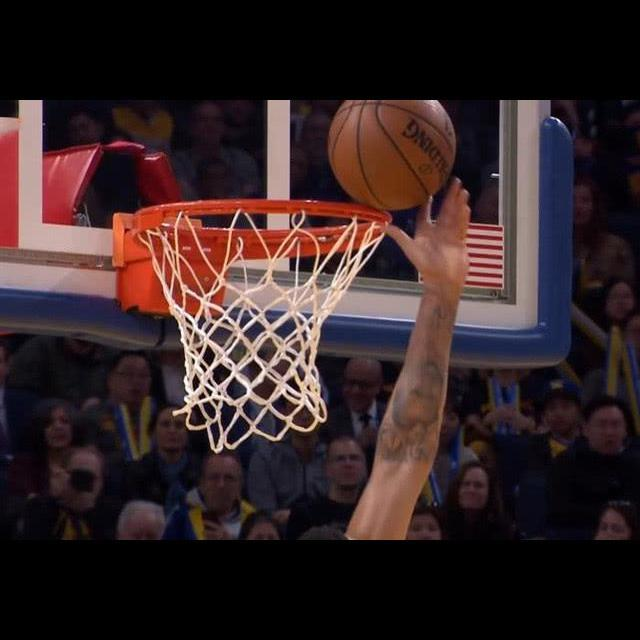basketball: (328, 100, 458, 210)
rim: (134, 199, 390, 453)
